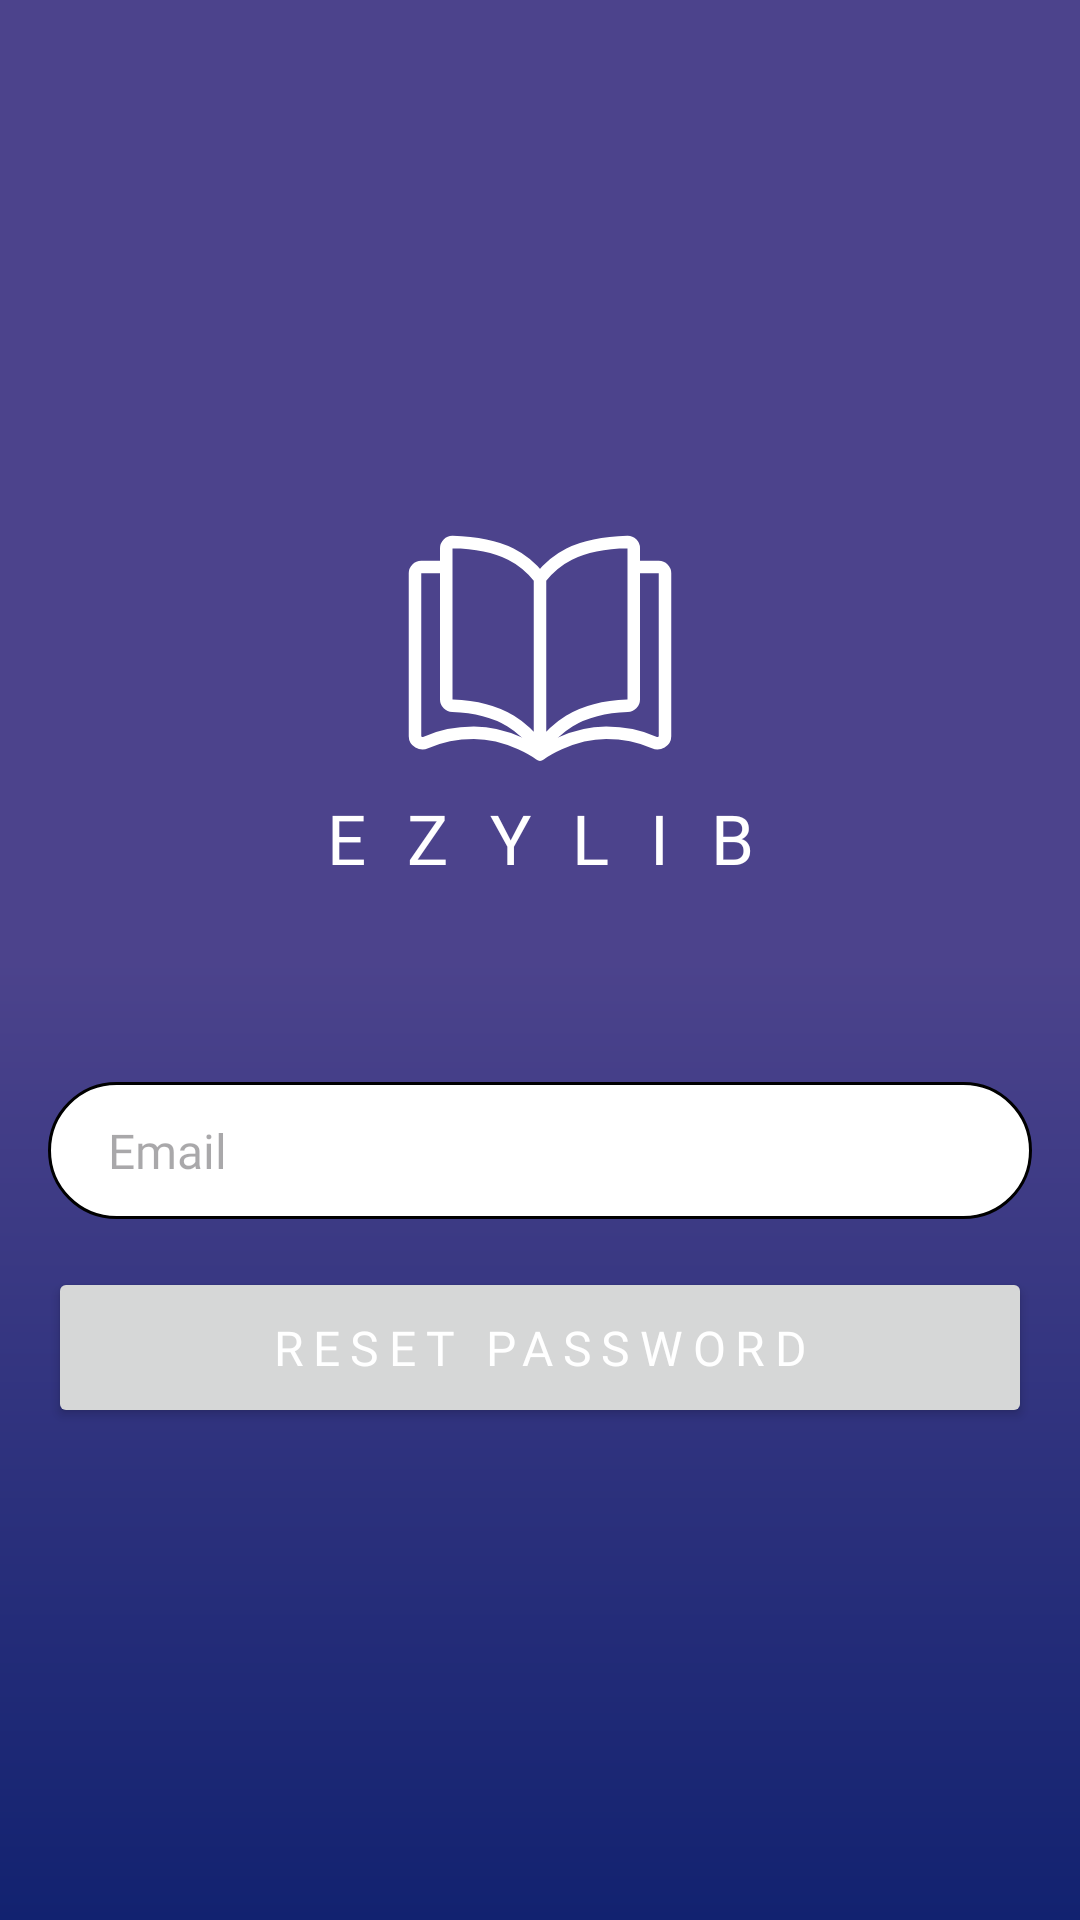

Screen size 1080 × 1920. Icon name, then its box in pixels as (x1, y1, x2, y2):
book: (408, 535, 672, 761)
